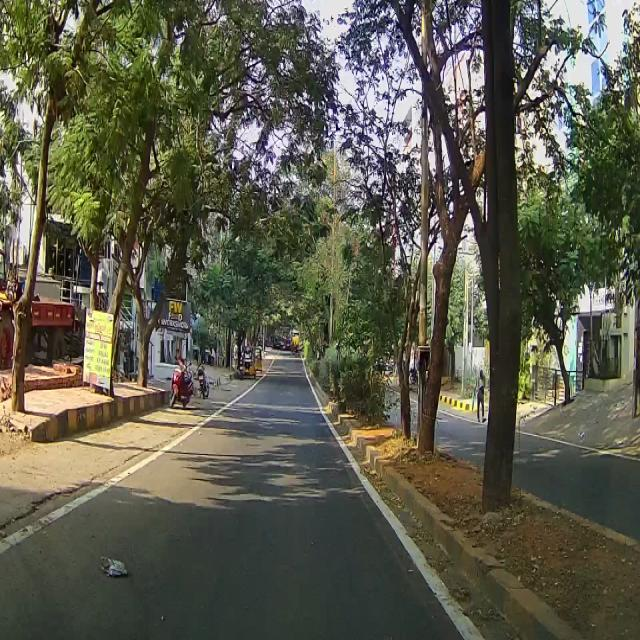tree ahead at: (74, 6, 147, 393), (2, 80, 66, 423)
